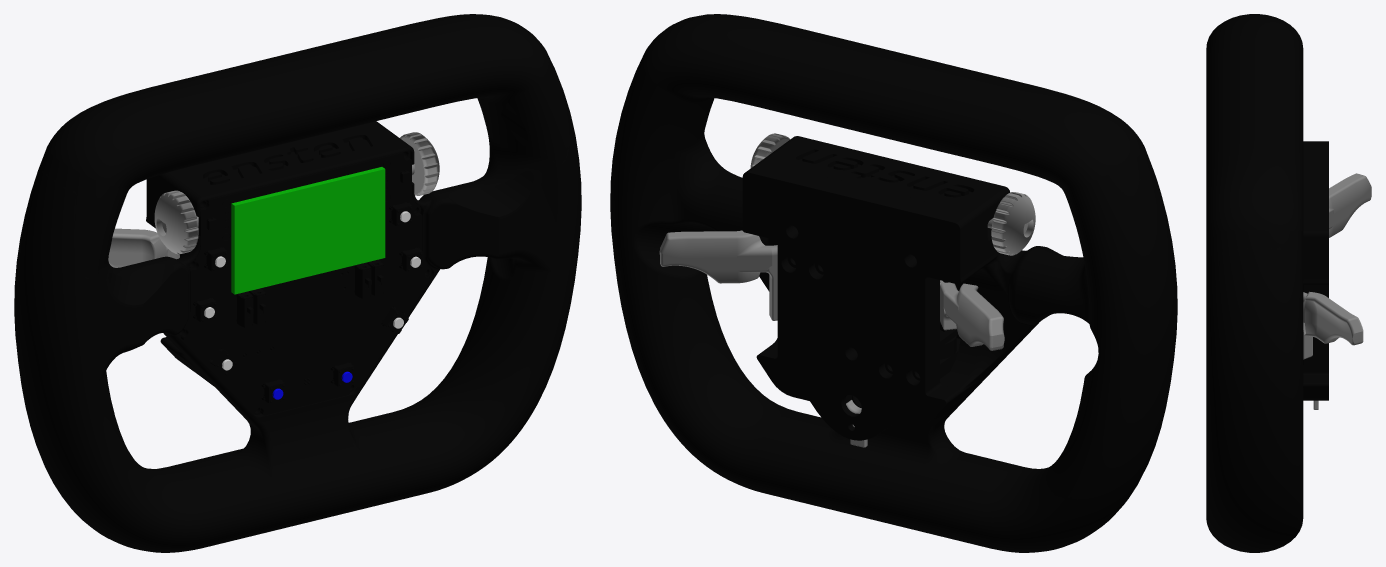
File: Ratten.glb
3 renders of one model, left to right at view 1: azimuth 30°, elevation 25°; view 2: azimuth 150°, elevation 25°; view 3: azimuth 270°, elevation 25°, orthographic. The views are drawn at different scales.
Visible parts, largest first — view 1: No holes_Cable fastening_0, Ratt 0_1.1 v6, Ratt-rev-1 (1)_527, Ratt-rev-1 (1)_76, Encoder wheels (×2), Surface Pot 2_Left side pot, Ratt 0_0.1 v6; view 2: No holes_Cable fastening_0, No holes_Cable fastening_1, Ratt 0_1.1 v6, Surface Pot 2025 1_1, Ratt 0_0.1 v6, Surface Pot 2_Left side pot, Encoder wheels; view 3: No holes_Cable fastening_0, Ratt 0_1.1 v6, No holes_Cable fastening_1, Surface Pot 2025 1_1, Ratt 0_0.1 v6, Surface Pot 2_Left side pot.
Part boxes in pixels (<box>): No holes_Cable fastening_0: <box>14,14,581,552</box>; Ratt 0_1.1 v6: <box>14,67,581,552</box>; Ratt-rev-1 (1)_527: <box>181,152,429,415</box>; Ratt-rev-1 (1)_76: <box>231,167,385,294</box>; Encoder wheels (×2): <box>154,132,439,254</box>; Surface Pot 2_Left side pot: <box>108,228,179,267</box>; Ratt 0_0.1 v6: <box>146,175,179,357</box>; No holes_Cable fastening_0: <box>610,14,1177,552</box>; No holes_Cable fastening_1: <box>742,161,975,440</box>; Ratt 0_1.1 v6: <box>610,69,1177,552</box>; Surface Pot 2025 1_1: <box>659,230,777,320</box>; Ratt 0_0.1 v6: <box>745,161,974,407</box>; Surface Pot 2_Left side pot: <box>940,280,1004,350</box>; Encoder wheels: <box>991,192,1035,255</box>; No holes_Cable fastening_0: <box>1206,14,1303,552</box>; Ratt 0_1.1 v6: <box>1206,247,1303,552</box>; No holes_Cable fastening_1: <box>1303,141,1328,400</box>; Surface Pot 2025 1_1: <box>1303,291,1363,359</box>; Ratt 0_0.1 v6: <box>1303,231,1328,400</box>; Surface Pot 2_Left side pot: <box>1329,173,1371,237</box>.
Bounding box in the file's own units: 0.2 × 0.1588 × 0.0597.
